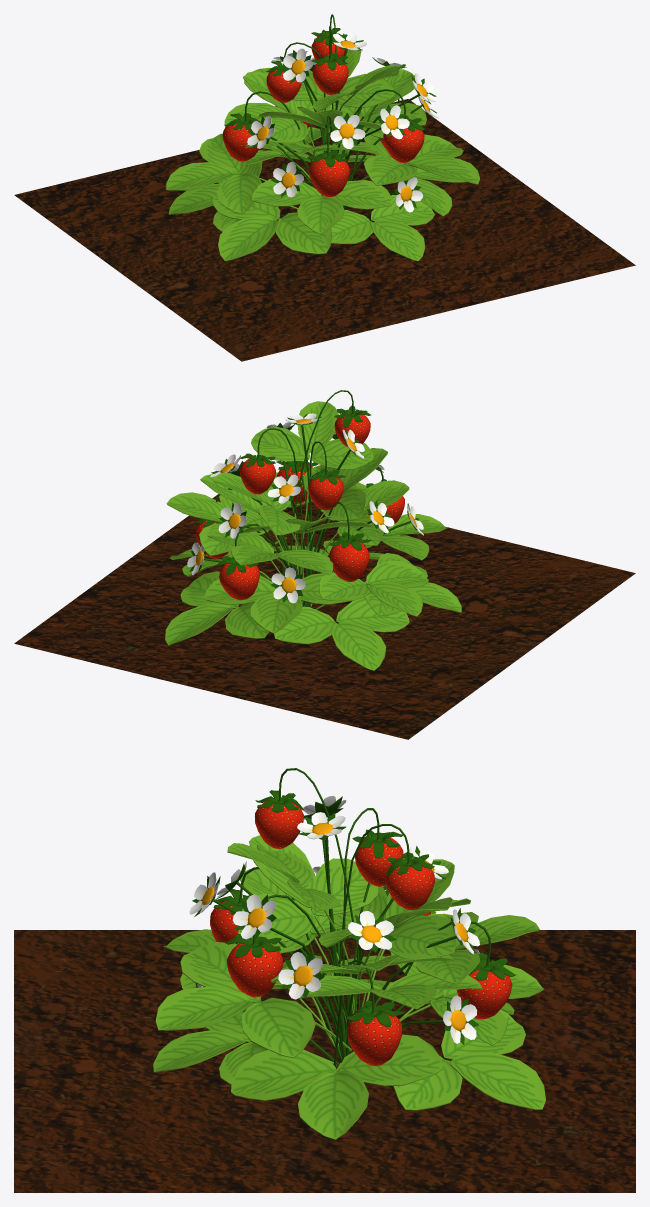
File: Strawberry.FBX
3 renders of one model, top to bottom at view 1: azimuth 30°, elevation 25°; view 2: azimuth 150°, elevation 25°; view 3: azimuth 270°, elevation 25°, orthographic. The views are drawn at different scales.
Visible parts, largest first — view 1: Ground_001, Leaf_014, Leaf_008, Leaf_015, Leaf_009, Leaf_007, Leaf_010, Leaf_001, Leaf_017, Leaf_019, Leaf_003, Strawberry_002 (+10 smaller); view 2: Ground_001, Leaf_017, Leaf_012, Leaf_009, Leaf_018, Leaf_013, Leaf_005, Leaf_011, Leaf_006, Leaf_004, Leaf_014, Leaf_010 (+13 smaller); view 3: Ground_001, Leaf_019, Leaf_007, Leaf_018, Leaf_011, Leaf_001, Leaf_015, Leaf_006, Leaf_005, Leaf_012, Leaf_013, Strawberry_007 (+17 smaller).
Part boxes in pixels (<box>): Ground_001: <box>14,99,635,361</box>; Leaf_014: <box>212,194,332,261</box>; Leaf_008: <box>252,178,392,234</box>; Leaf_015: <box>321,195,434,261</box>; Leaf_009: <box>166,133,266,214</box>; Leaf_007: <box>361,134,479,185</box>; Leaf_010: <box>292,47,394,132</box>; Leaf_001: <box>243,71,334,155</box>; Leaf_017: <box>168,161,297,231</box>; Leaf_019: <box>342,132,465,216</box>; Leaf_003: <box>331,69,413,158</box>; Strawberry_002: <box>308,158,349,196</box>; Ground_001: <box>14,494,635,739</box>; Leaf_017: <box>274,597,409,670</box>; Leaf_012: <box>251,401,373,574</box>; Leaf_009: <box>306,560,428,616</box>; Leaf_018: <box>165,571,268,645</box>; Leaf_013: <box>204,572,354,633</box>; Leaf_005: <box>207,529,333,575</box>; Leaf_011: <box>301,448,387,573</box>; Leaf_006: <box>166,492,281,574</box>; Leaf_004: <box>302,480,409,603</box>; Leaf_014: <box>315,553,461,616</box>; Leaf_010: <box>213,473,303,601</box>; Ground_001: <box>14,930,635,1192</box>; Leaf_019: <box>231,1034,442,1139</box>; Leaf_007: <box>155,942,351,1058</box>; Leaf_018: <box>393,1009,545,1110</box>; Leaf_011: <box>240,835,378,1015</box>; Leaf_001: <box>333,859,456,1007</box>; Leaf_015: <box>153,998,336,1084</box>; Leaf_006: <box>298,972,482,1009</box>; Leaf_005: <box>391,912,539,1002</box>; Leaf_012: <box>227,843,354,1012</box>; Leaf_013: <box>338,951,544,1071</box>; Strawberry_007: <box>347,1011,401,1065</box>.
Bounding box in the file's own units: 81.16 × 81.16 × 42.86.
